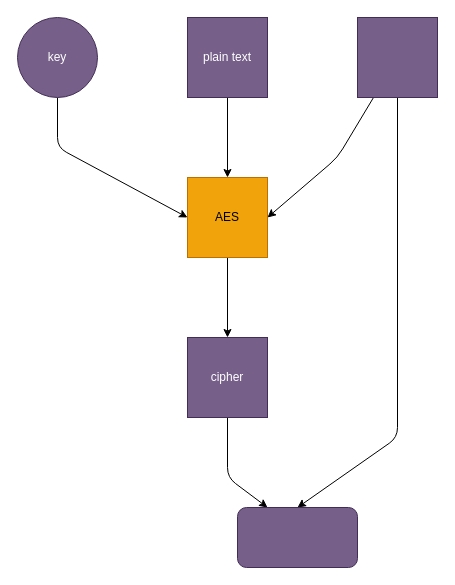
The diagram is 455 pixels wide and 585 high, and some of its shapes have lost their labels. Here are the shapes that lost their labels. From the top down, the centre of each, then its label:
the point at 397,57: IV
the point at 297,537: CipherFile
